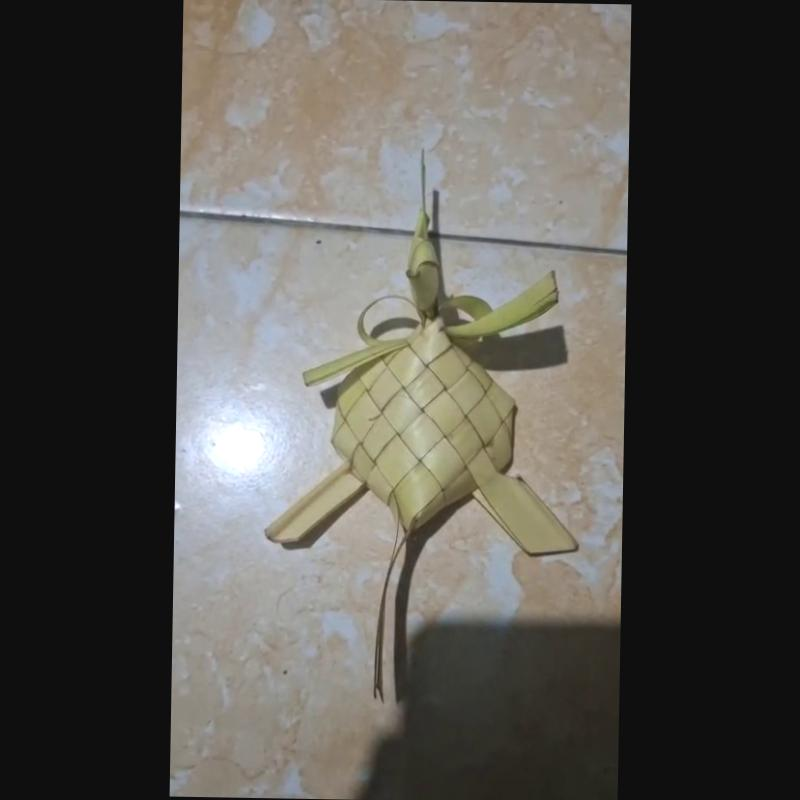Tipat Dampulan: (245, 122, 594, 699)
